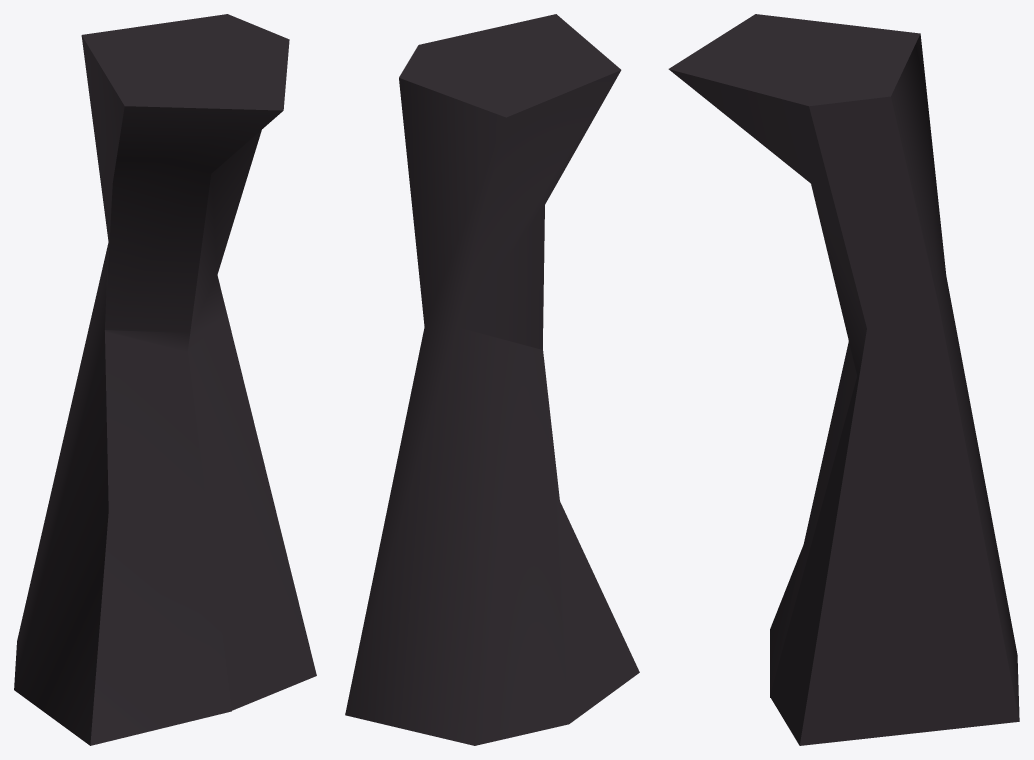
The model's file is DivinerTexture.fbx.
The picture shows the model from 3 angles, left to right: view 1: azimuth 30°, elevation 25°; view 2: azimuth 150°, elevation 25°; view 3: azimuth 270°, elevation 25°; orthographic projection. The views are drawn at different scales.
Parts seen in each view (by area): view 1: Diviner; view 2: Diviner; view 3: Diviner.
Part boxes in pixels (x1=…): Diviner: x1=14, y1=14, x2=316, y2=745; Diviner: x1=345, y1=14, x2=639, y2=745; Diviner: x1=668, y1=14, x2=1019, y2=745.
Size of the model in its own units: 0.2023 by 0.5105 by 0.2584.
Materials: 1 (1 with a texture image).
